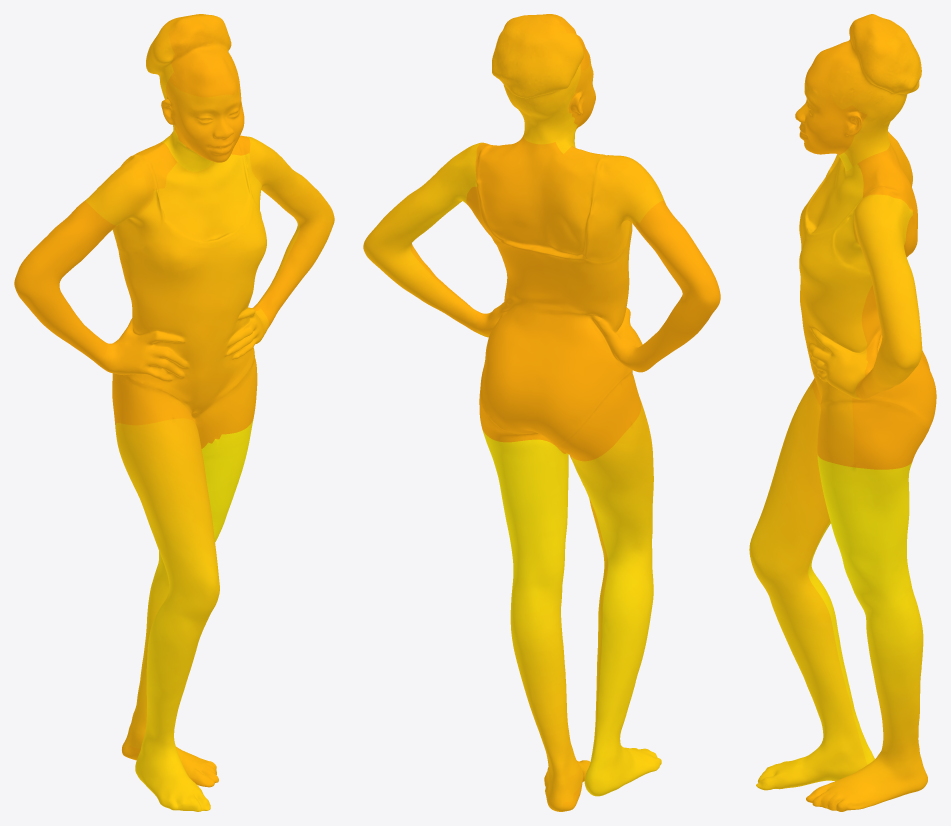
File: girl1.gltf
3 renders of one model, left to right at view 1: azimuth 30°, elevation 25°; view 2: azimuth 150°, elevation 25°; view 3: azimuth 270°, elevation 25°, orthographic. The views are drawn at different scales.
Visible parts, largest first — view 1: 051F_03SET_02SHOT; view 2: 051F_03SET_02SHOT; view 3: 051F_03SET_02SHOT.
Boxes of the visible parts, x1,y1,x2,y2 form: 051F_03SET_02SHOT: (14, 14, 334, 811); 051F_03SET_02SHOT: (363, 14, 720, 811); 051F_03SET_02SHOT: (749, 14, 936, 811).
Size of the model in its own units: 85.9 by 186 by 39.93.
Materials: 1 (1 with a texture image).
